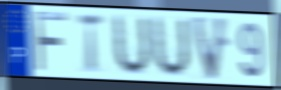9: (237, 21, 265, 80)
F: (32, 9, 70, 74)
T: (76, 12, 105, 75)
U: (152, 14, 192, 79), (112, 13, 152, 77)
V: (189, 14, 231, 83)
